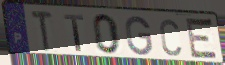0: (91, 13, 123, 56)
C: (158, 17, 183, 57)
E: (185, 16, 221, 62)
G: (124, 15, 154, 57)
T: (29, 9, 55, 53), (63, 13, 86, 53)
